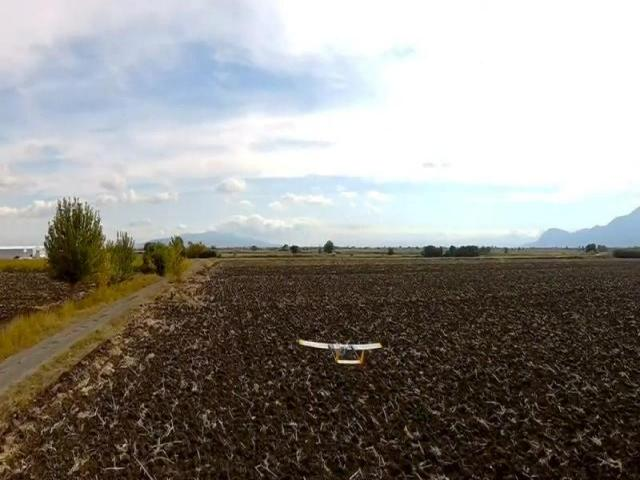hedef: (297, 330, 386, 370)
